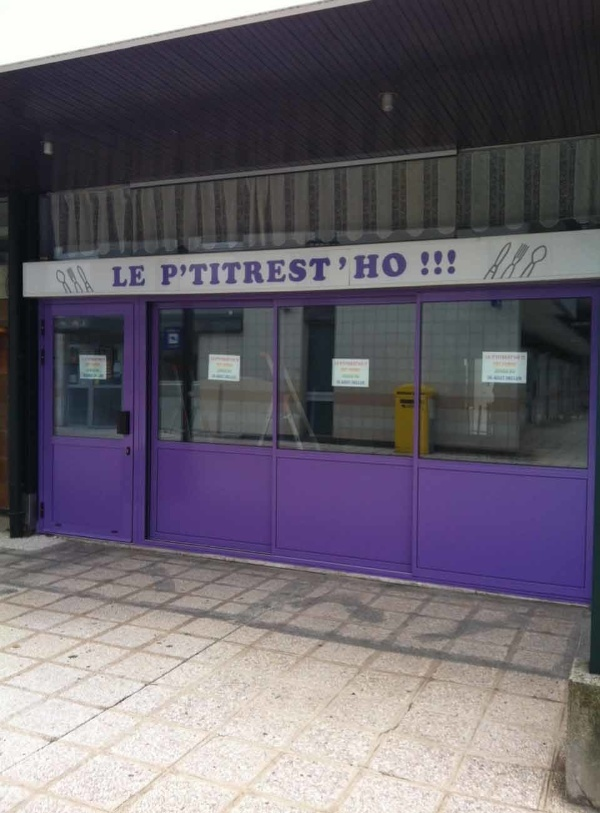text: (161, 251, 176, 288), (177, 251, 192, 288), (193, 251, 208, 288), (209, 251, 224, 288), (225, 251, 240, 288), (241, 251, 256, 288), (257, 251, 272, 288), (273, 251, 288, 288), (289, 251, 304, 288), (305, 251, 320, 288), (321, 251, 336, 288), (337, 251, 352, 288), (353, 251, 368, 288), (369, 251, 384, 288), (385, 251, 400, 288), (433, 249, 448, 276), (113, 265, 128, 287), (129, 265, 144, 287), (420, 249, 432, 276), (401, 251, 408, 288), (449, 249, 457, 276), (497, 374, 512, 381), (497, 361, 512, 367), (225, 356, 240, 361), (337, 361, 352, 366), (353, 361, 368, 366), (497, 355, 512, 360), (513, 374, 523, 381), (211, 356, 224, 361), (211, 374, 224, 379), (513, 355, 526, 360), (487, 374, 496, 381), (497, 369, 512, 373), (225, 374, 236, 379), (485, 355, 496, 360), (340, 368, 352, 372), (337, 381, 352, 384), (341, 374, 352, 378), (82, 358, 96, 361), (84, 374, 96, 377), (353, 381, 365, 384), (216, 363, 224, 367), (225, 363, 233, 367), (86, 363, 96, 366), (86, 369, 96, 372), (217, 369, 224, 373), (353, 368, 360, 372), (353, 374, 360, 378), (97, 358, 106, 361), (168, 345, 176, 348), (225, 369, 231, 373), (145, 265, 146, 287), (97, 374, 104, 377), (493, 361, 496, 367), (513, 361, 516, 367), (168, 330, 176, 332), (97, 363, 101, 366), (513, 369, 515, 373), (97, 369, 99, 372), (177, 345, 179, 348), (177, 330, 180, 332), (335, 361, 336, 366)
